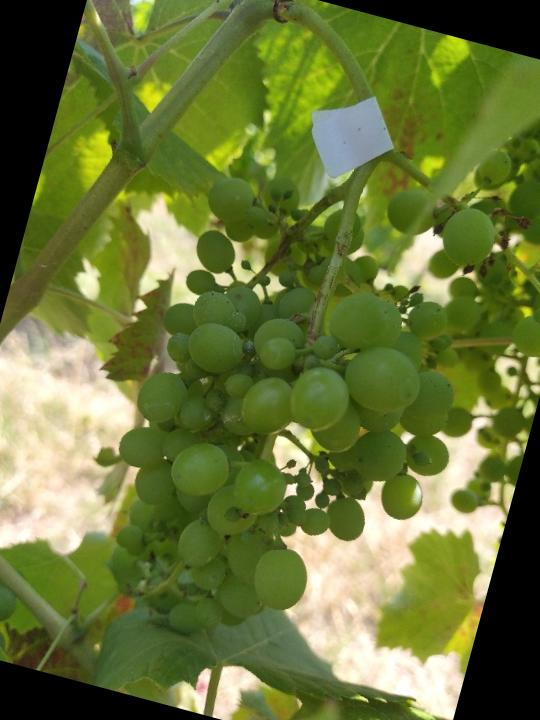grape: (64, 72, 540, 698)
